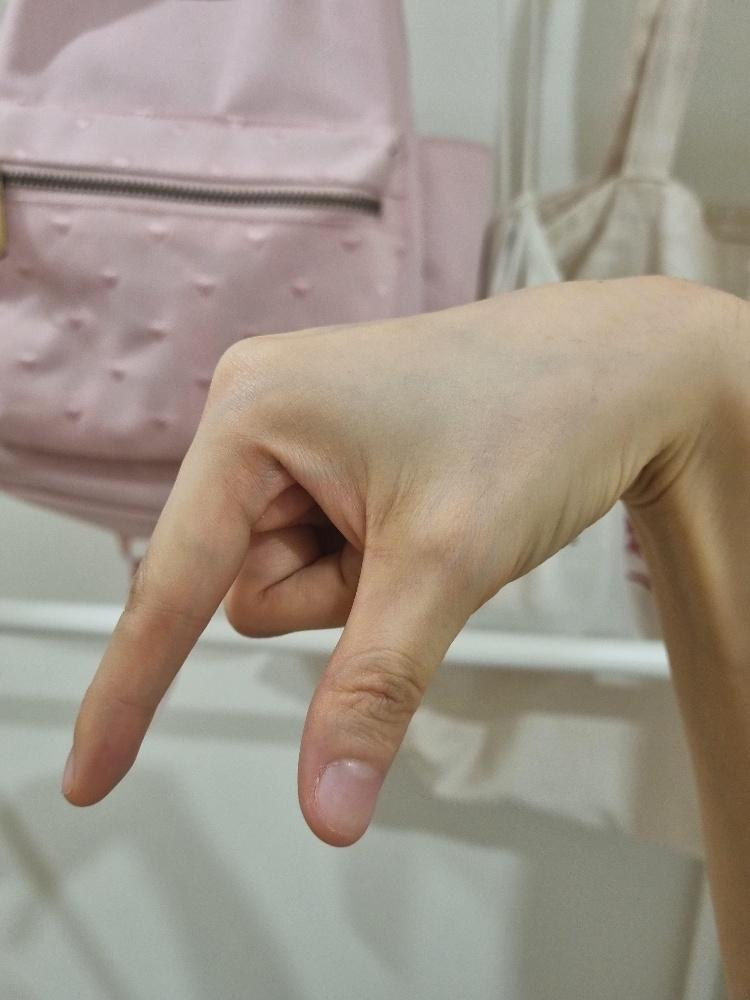q: (58, 272, 680, 848)
